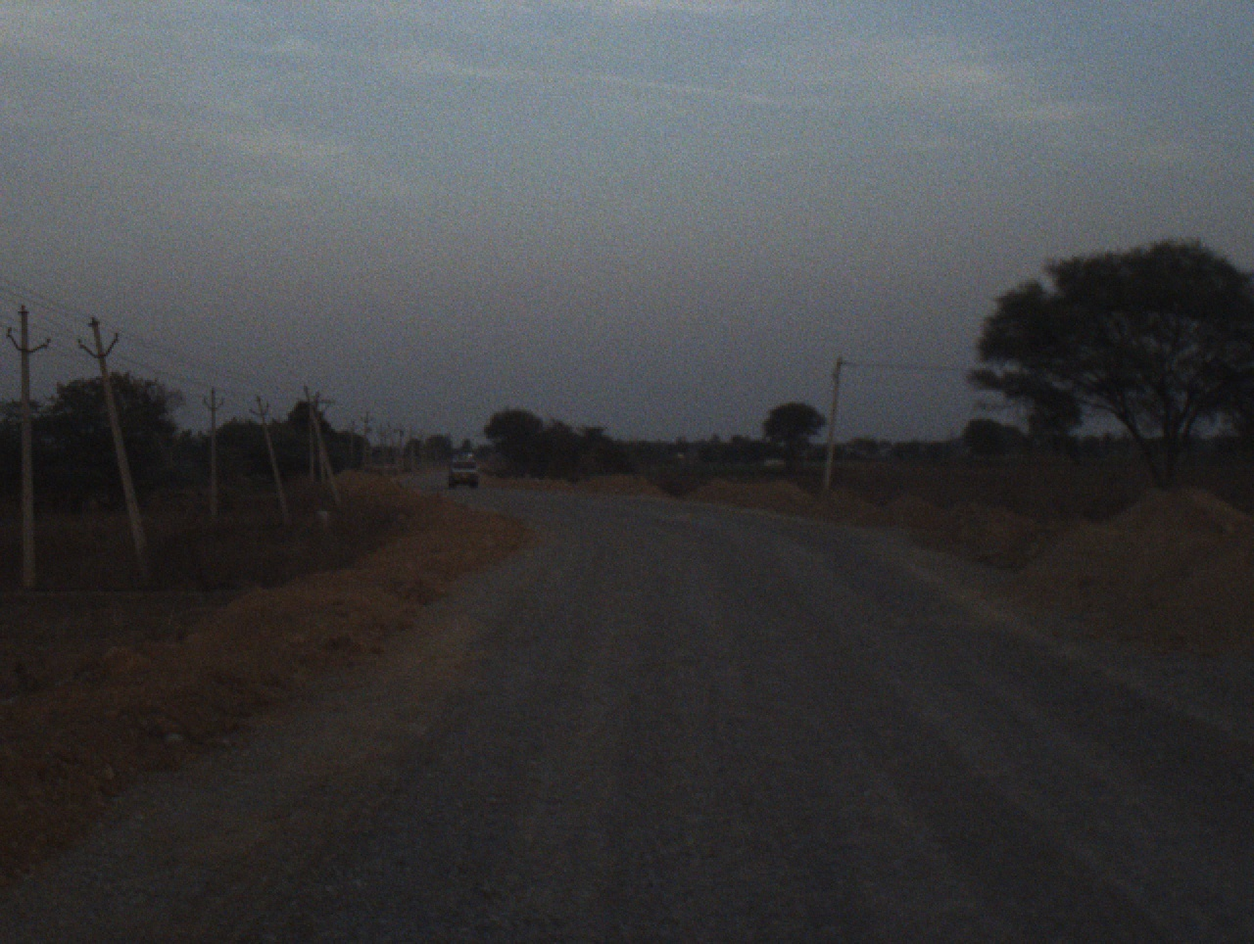car: (446, 448, 481, 490)
